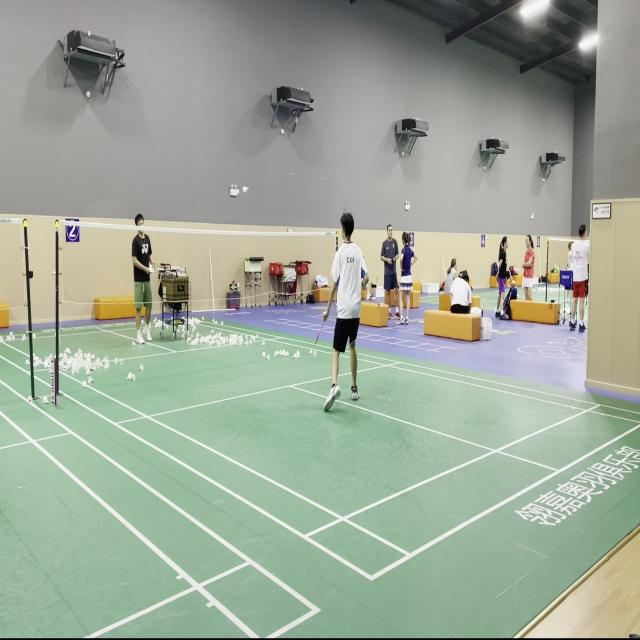shuttlecock: (242, 186, 249, 193)
